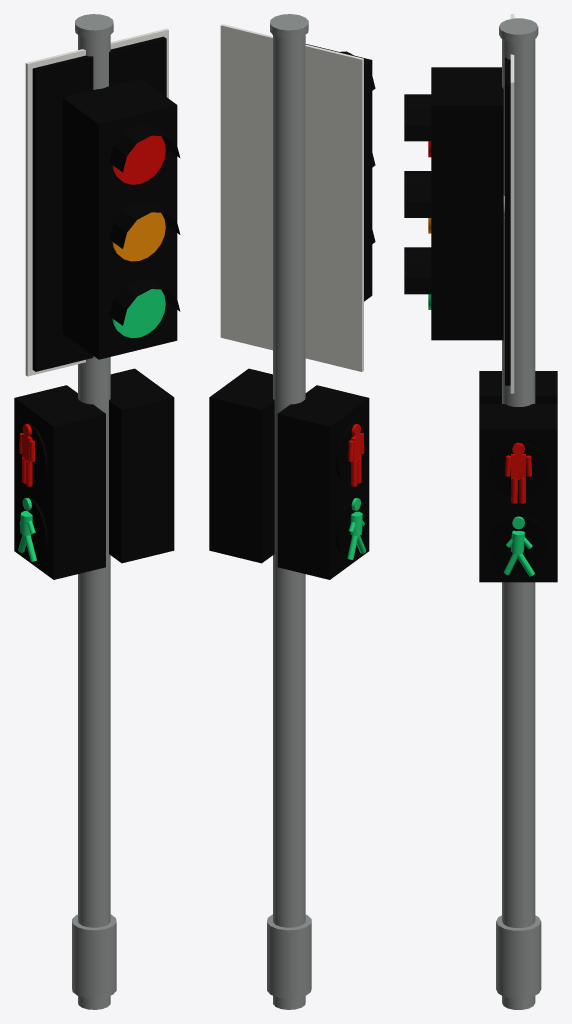
File: signal_carped.glb
3 renders of one model, left to right at view 1: azimuth 30°, elevation 25°; view 2: azimuth 150°, elevation 25°; view 3: azimuth 270°, elevation 25°, orthographic.
Visible parts, largest first — view 1: pole, ped_heads_b, ped_heads, lamp_red, lamp_amber, lamp_green, lamp_ped_red, lamp_ped_green; view 2: pole, ped_heads_b, ped_heads, lamp_ped_red, lamp_ped_green; view 3: pole, ped_heads, ped_heads_b, lamp_ped_red, lamp_ped_green.
Boxes of the visible parts, x1,y1,x2,y2 form: pole: (25, 14, 180, 1009); ped_heads_b: (14, 385, 105, 579); ped_heads: (109, 368, 174, 563); lamp_red: (112, 135, 165, 184); lamp_amber: (112, 212, 165, 261); lamp_green: (112, 289, 165, 338); lamp_ped_red: (19, 424, 35, 486); lamp_ped_green: (18, 498, 36, 561); pole: (220, 14, 375, 1009); ped_heads_b: (277, 385, 369, 579); ped_heads: (209, 368, 274, 563); lamp_ped_red: (348, 424, 364, 486); lamp_ped_green: (347, 498, 365, 559); pole: (404, 14, 541, 1009); ped_heads: (479, 404, 557, 582); ped_heads_b: (479, 371, 557, 403); lamp_ped_red: (505, 442, 531, 503); lamp_ped_green: (503, 516, 534, 576).
Size of the model in its own units: 0.556 by 3.58 by 0.51.
